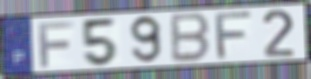2: (262, 8, 296, 58)
5: (81, 16, 122, 68)
9: (128, 14, 164, 65)
B: (169, 11, 212, 64)
F: (214, 10, 256, 62), (36, 20, 76, 69)
